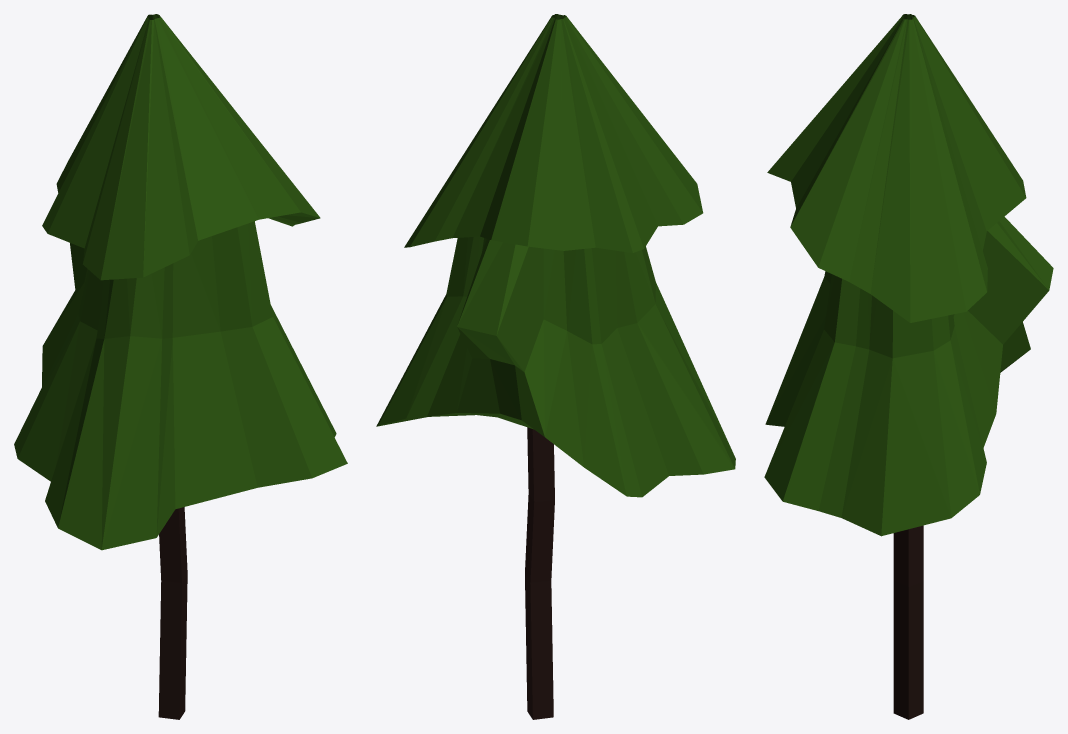
The model's file is SM_tree_conifer_03.FBX.
The picture shows the model from 3 angles, left to right: view 1: azimuth 30°, elevation 25°; view 2: azimuth 150°, elevation 25°; view 3: azimuth 270°, elevation 25°; orthographic projection. The views are drawn at different scales.
Visible parts, largest first — view 1: Object045; view 2: Object045; view 3: Object045.
Part boxes in pixels (x1,y1,x2,y2): Object045: (14,14,347,719); Object045: (376,14,735,719); Object045: (764,14,1053,719).
Bounding box in the file's own units: 398 × 876 × 334.
